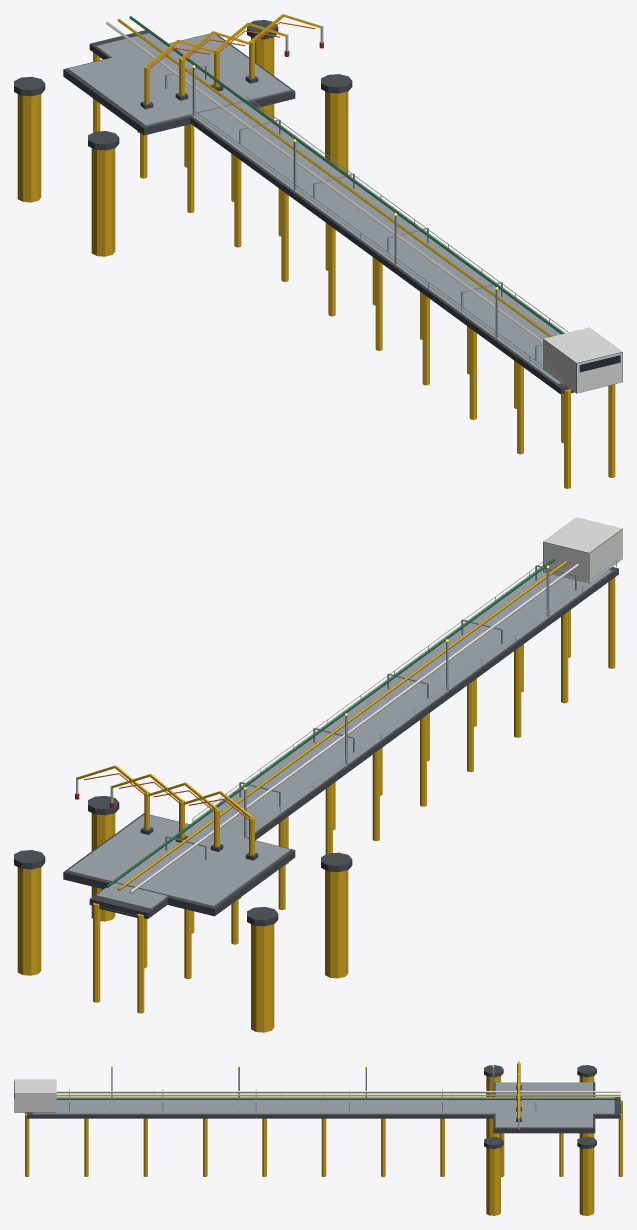
The model's file is mid_loading_jetty.glb.
The picture shows the model from 3 angles, top to bottom: view 1: azimuth 30°, elevation 25°; view 2: azimuth 150°, elevation 25°; view 3: azimuth 270°, elevation 25°; orthographic projection. The views are drawn at different scales.
Visible parts, largest first — view 1: mid_loading_jetty; view 2: mid_loading_jetty; view 3: mid_loading_jetty.
Part boxes in pixels (x1=…): mid_loading_jetty: x1=14, y1=14, x2=622, y2=488; mid_loading_jetty: x1=14, y1=517, x2=622, y2=1032; mid_loading_jetty: x1=14, y1=1061, x2=622, y2=1215.
Size of the model in its own units: 44.73 by 28.45 by 144.
